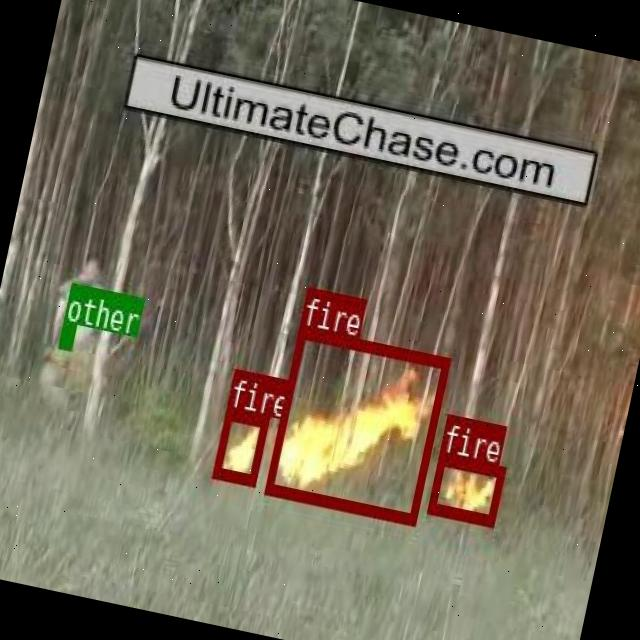fire: (264, 325, 450, 522), (426, 453, 504, 524), (210, 406, 268, 484)
